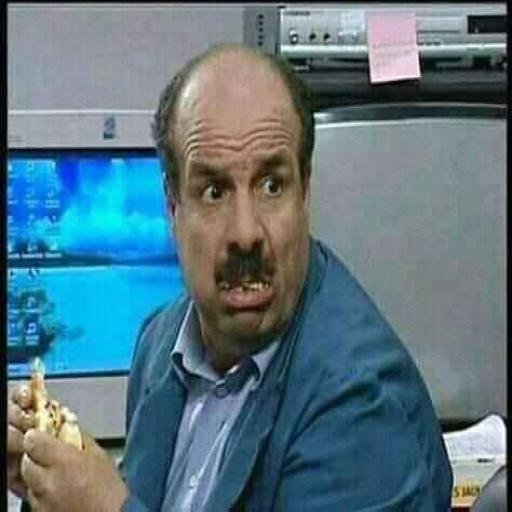beji_matrix: (152, 45, 313, 351)
